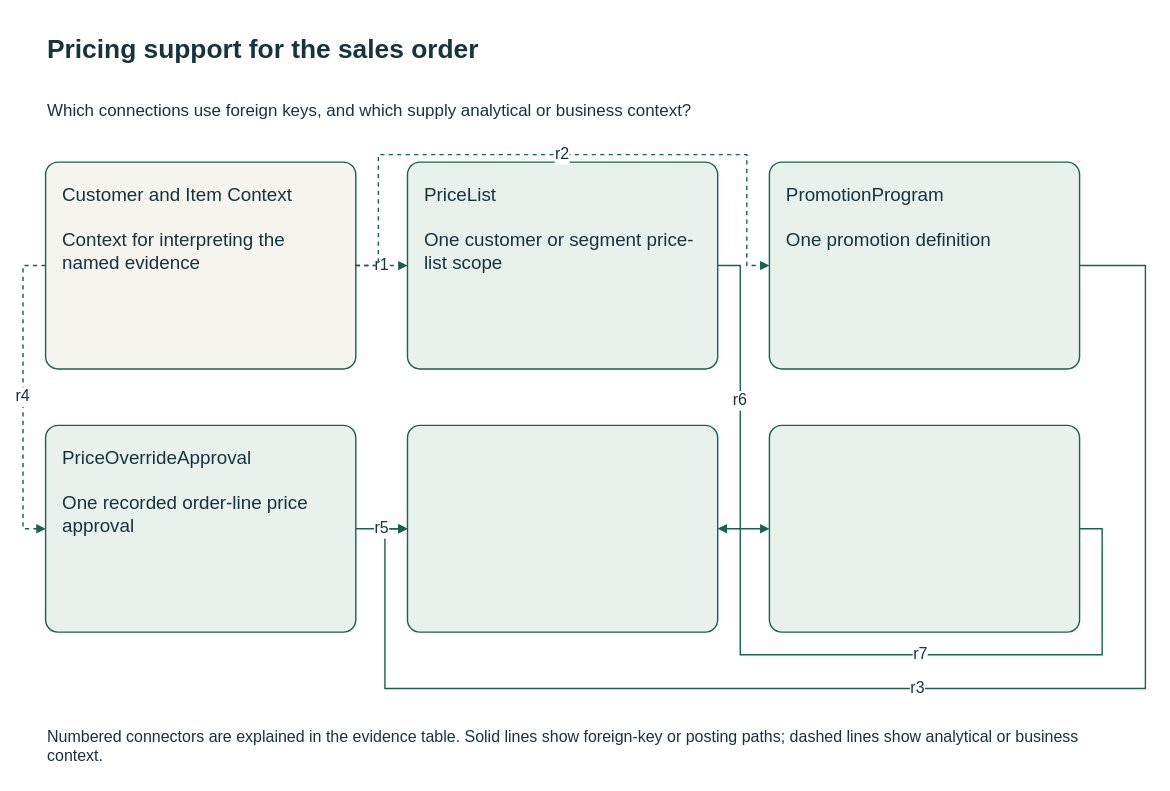
This 1170x791 diagram has some shape labels left out. The box of each missing label's shape, as (x1, y1, x2, y2) in pixels:
PriceListLine One item price within a price list: (768, 424, 1080, 632)
SalesOrderLine One ordered item or service line: (406, 424, 718, 632)
